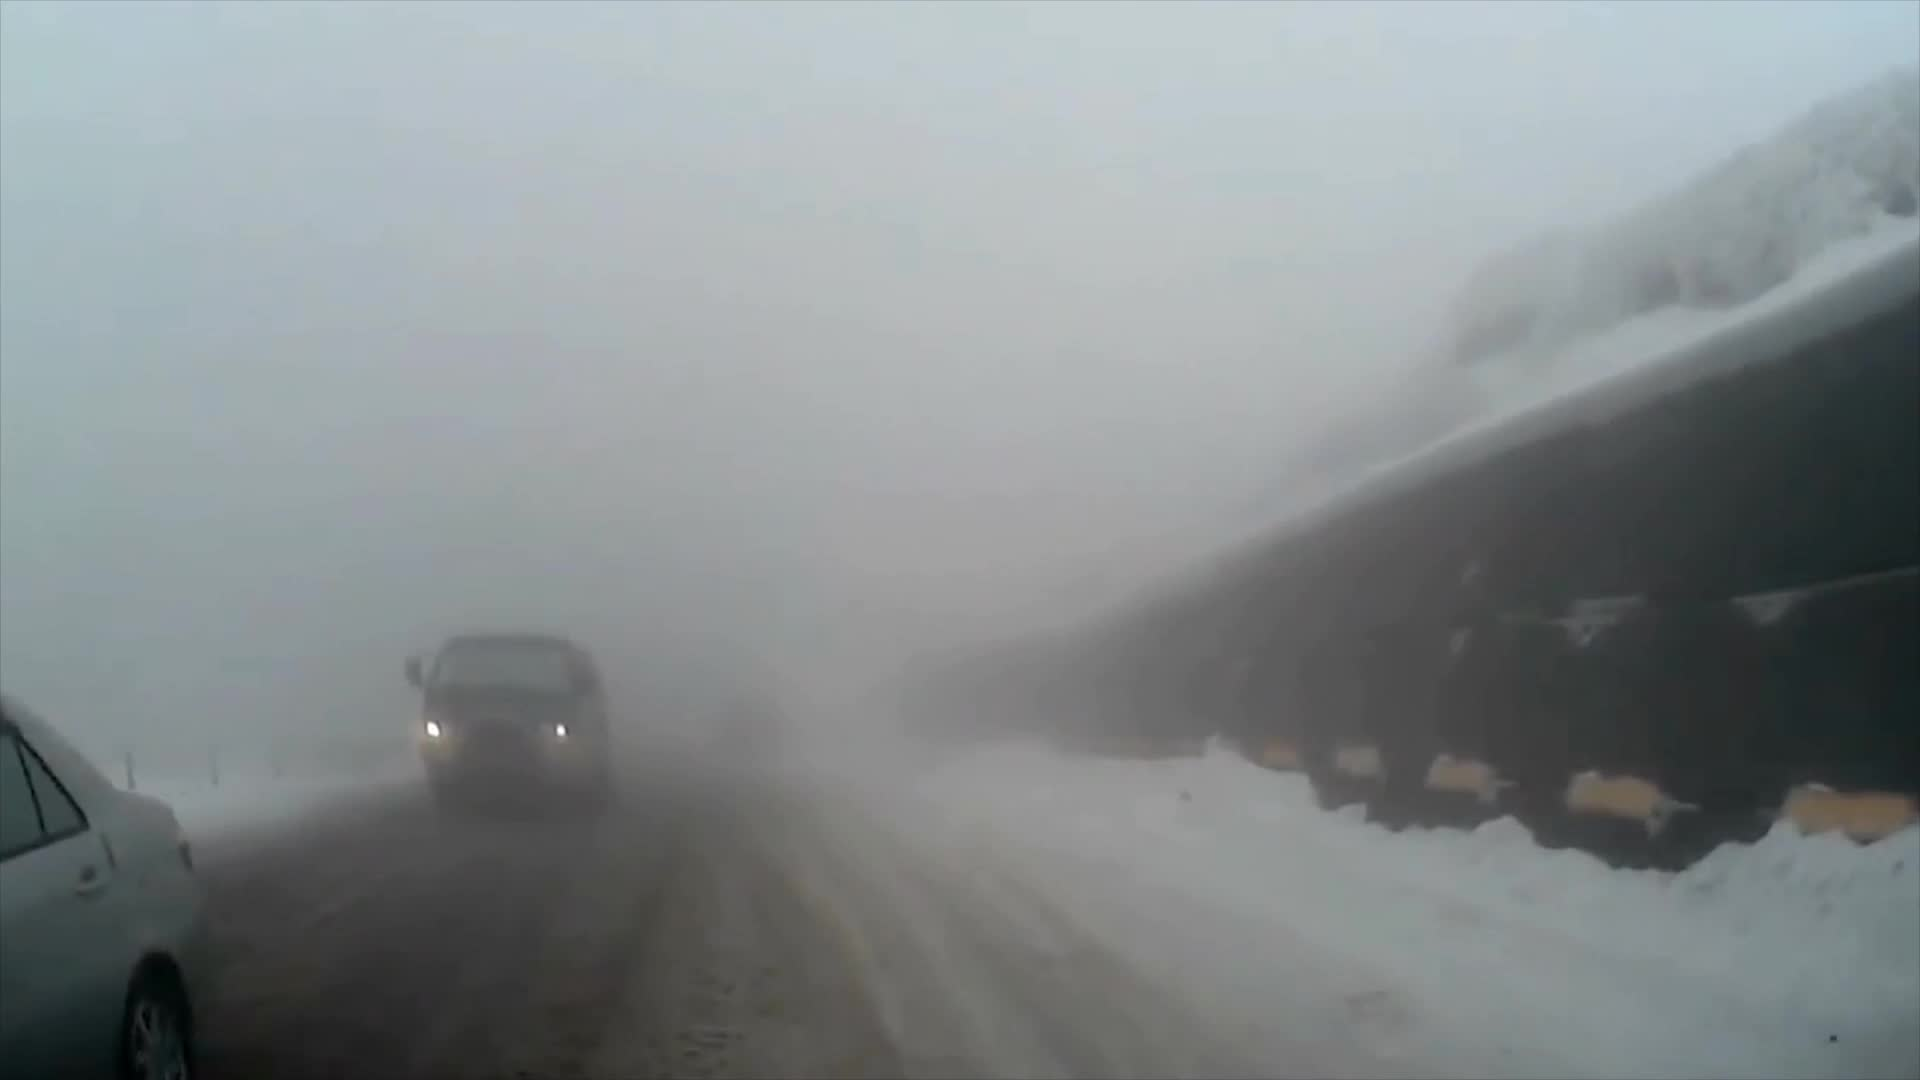vehicle: (0, 699, 204, 1080), (398, 633, 613, 824)
